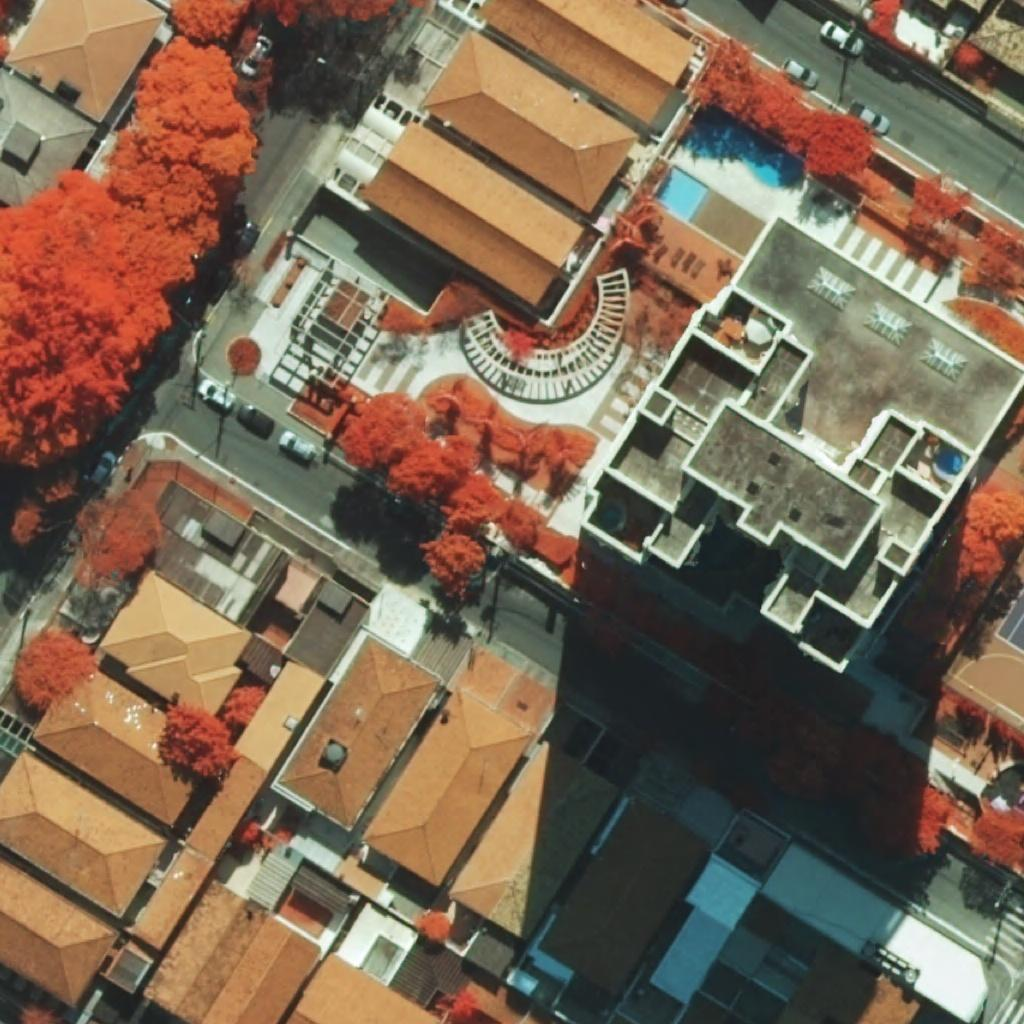pool: (682, 105, 803, 189), (654, 165, 709, 222), (935, 449, 963, 477)
